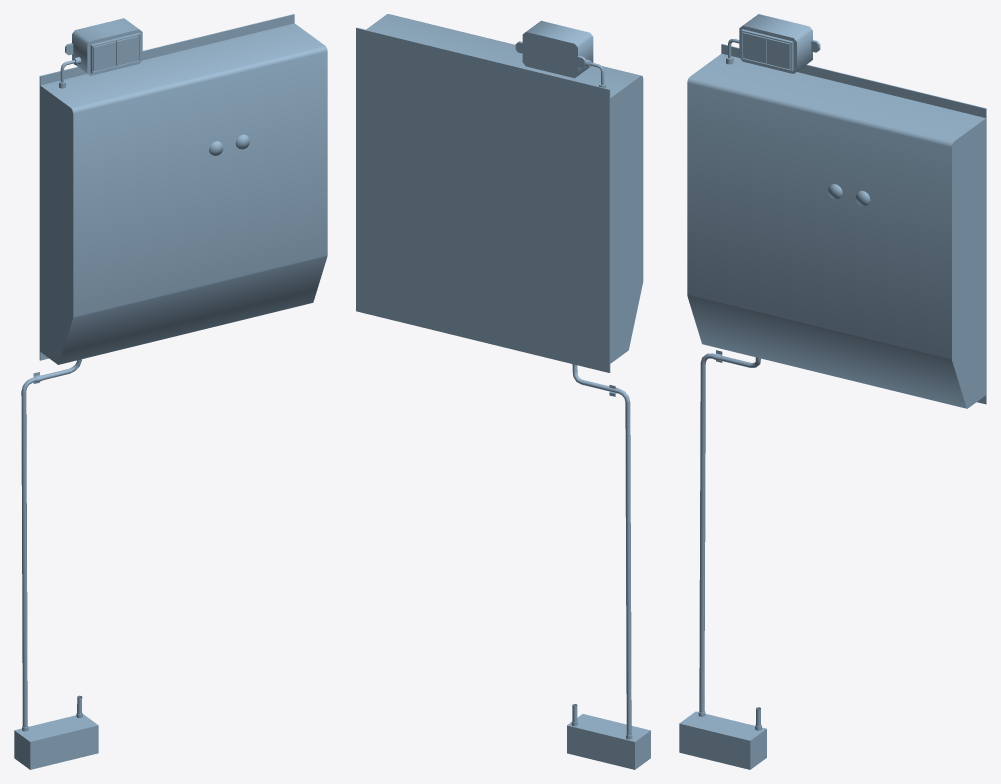
Rendered from Inverter_2.fbx.
3 views of the same model, side by side, from view 1: azimuth 30°, elevation 25°; view 2: azimuth 150°, elevation 25°; view 3: azimuth 330°, elevation 25° (orthographic). The views are drawn at different scales.
Parts seen in each view (by area): view 1: Inverter_2_LOD0; view 2: Inverter_2_LOD0; view 3: Inverter_2_LOD0.
Boxes of the visible parts, x1,y1,x2,y2 form: Inverter_2_LOD0: [14, 14, 327, 769]; Inverter_2_LOD0: [356, 14, 650, 769]; Inverter_2_LOD0: [679, 14, 986, 769].
Size of what is drawn, in the model's own units: 0.6557 by 1.6 by 0.145.
